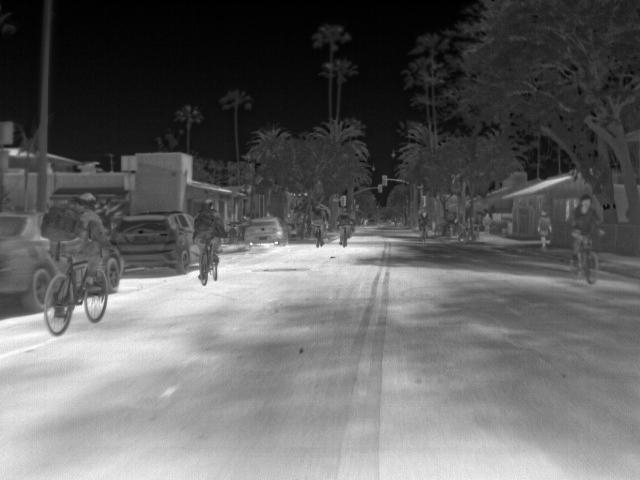car: (111, 212, 201, 274), (1, 211, 39, 314), (244, 214, 291, 246), (109, 244, 124, 292), (287, 221, 299, 238), (365, 218, 380, 228)
person: (37, 192, 123, 294), (567, 194, 607, 276), (194, 197, 224, 262), (536, 210, 555, 250), (312, 200, 331, 228), (482, 212, 494, 235), (338, 208, 353, 226), (417, 210, 432, 228)
